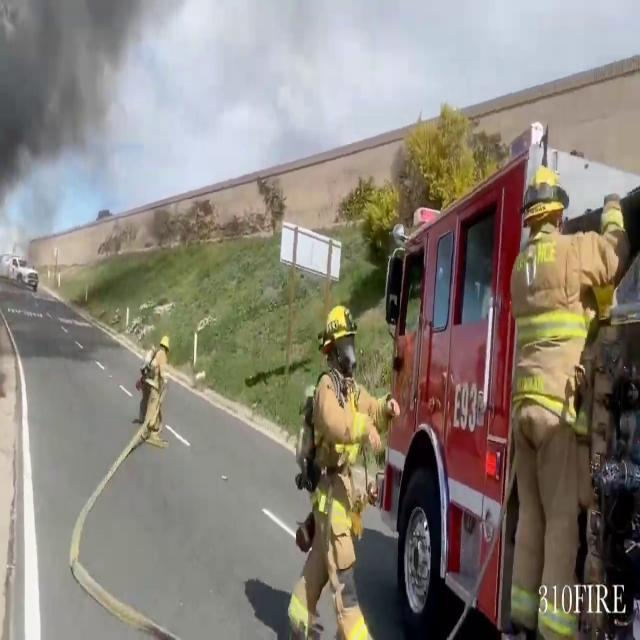Smoke: (0, 0, 114, 258)
